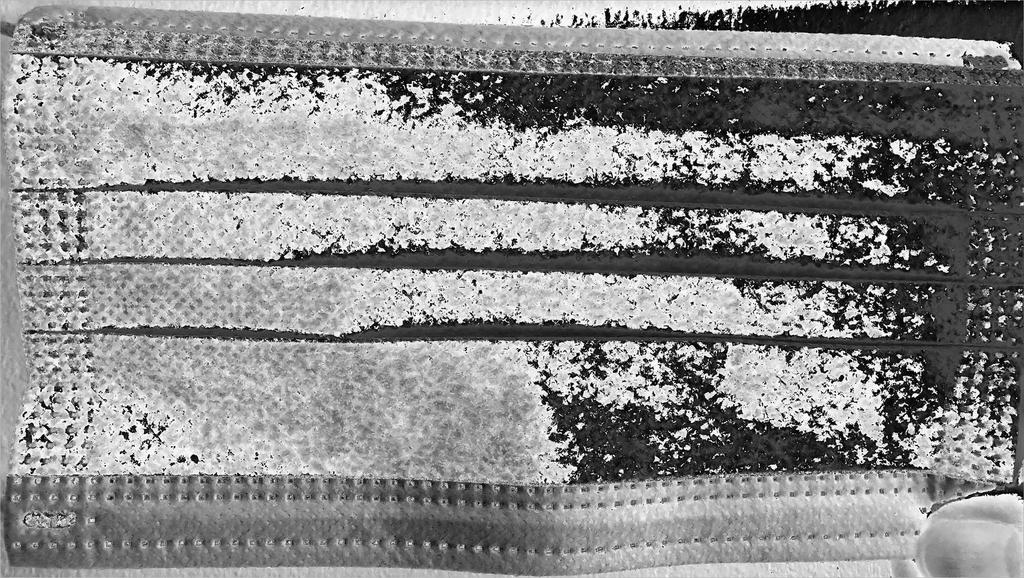High GSM: (8, 38, 1021, 504)
